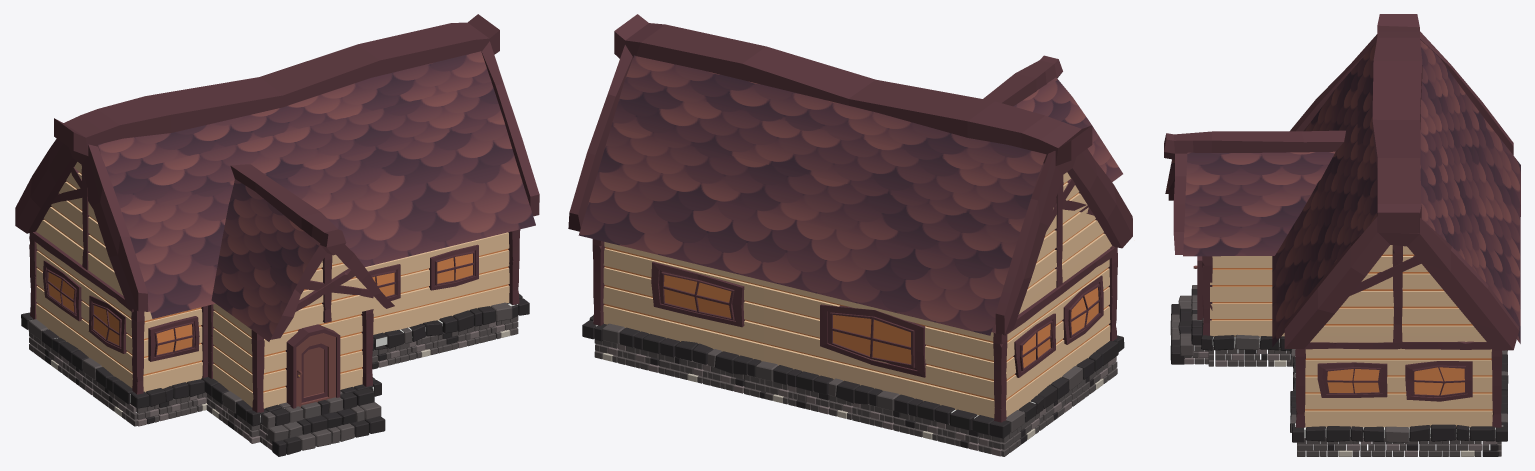
The model's file is casa-madeira11.fbx.
3 renders of one model, left to right at view 1: azimuth 30°, elevation 25°; view 2: azimuth 150°, elevation 25°; view 3: azimuth 270°, elevation 25°, orthographic. The views are drawn at different scales.
Parts seen in each view (by area): view 1: CasaMadeira11_LOD0, PortaCasaMadeira11; view 2: CasaMadeira11_LOD0; view 3: CasaMadeira11_LOD0.
Part boxes in pixels (x1=…): CasaMadeira11_LOD0: x1=15, y1=14, x2=539, y2=456; PortaCasaMadeira11: x1=296, y1=333, x2=335, y2=407; CasaMadeira11_LOD0: x1=568, y1=14, x2=1132, y2=456; CasaMadeira11_LOD0: x1=1164, y1=14, x2=1520, y2=456.
Size of what is drawn, in the model's own units: 10.99 by 6.63 by 8.36.
